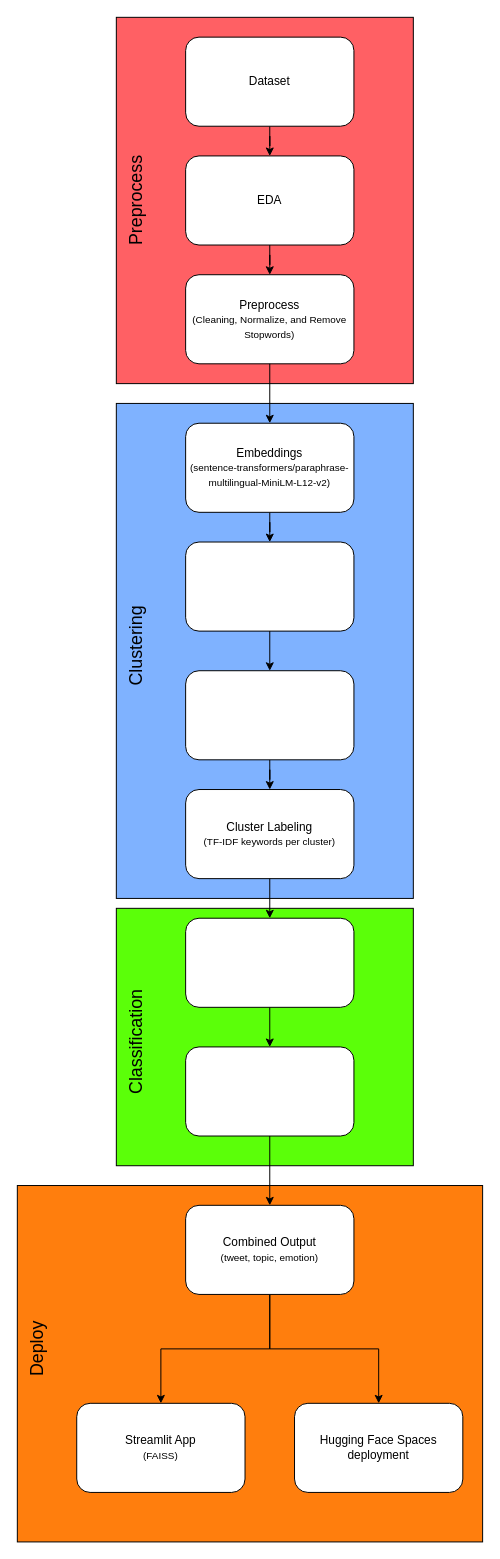
Some shapes in this 500 by 1559 pixel diagram are drawn without their labels. The shapes that lost their labels are listed below. From the top down, each one's centre as x and y in pixels, then its label:
point (269, 586): Dimensional Reduction (UMAP)
point (269, 715): Topic Discovery (Kmeans)
point (269, 962): Emotion Classification (IndoBERT fine-tuned)
point (269, 1091): Evaluation (Accuracy, F1, Confusion Matrix)
